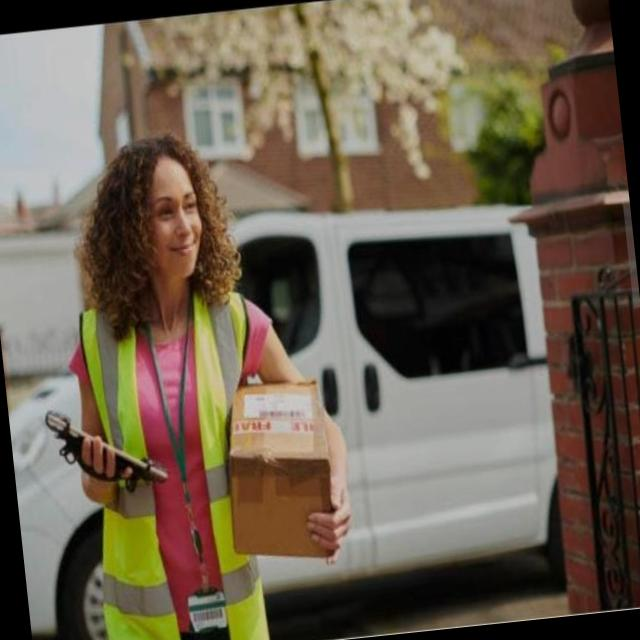id_card: (140, 307, 232, 640)
